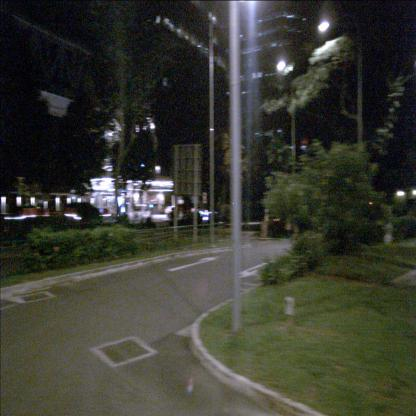vehicle-car: (62, 202, 102, 232), (169, 203, 202, 231), (117, 203, 151, 227)
